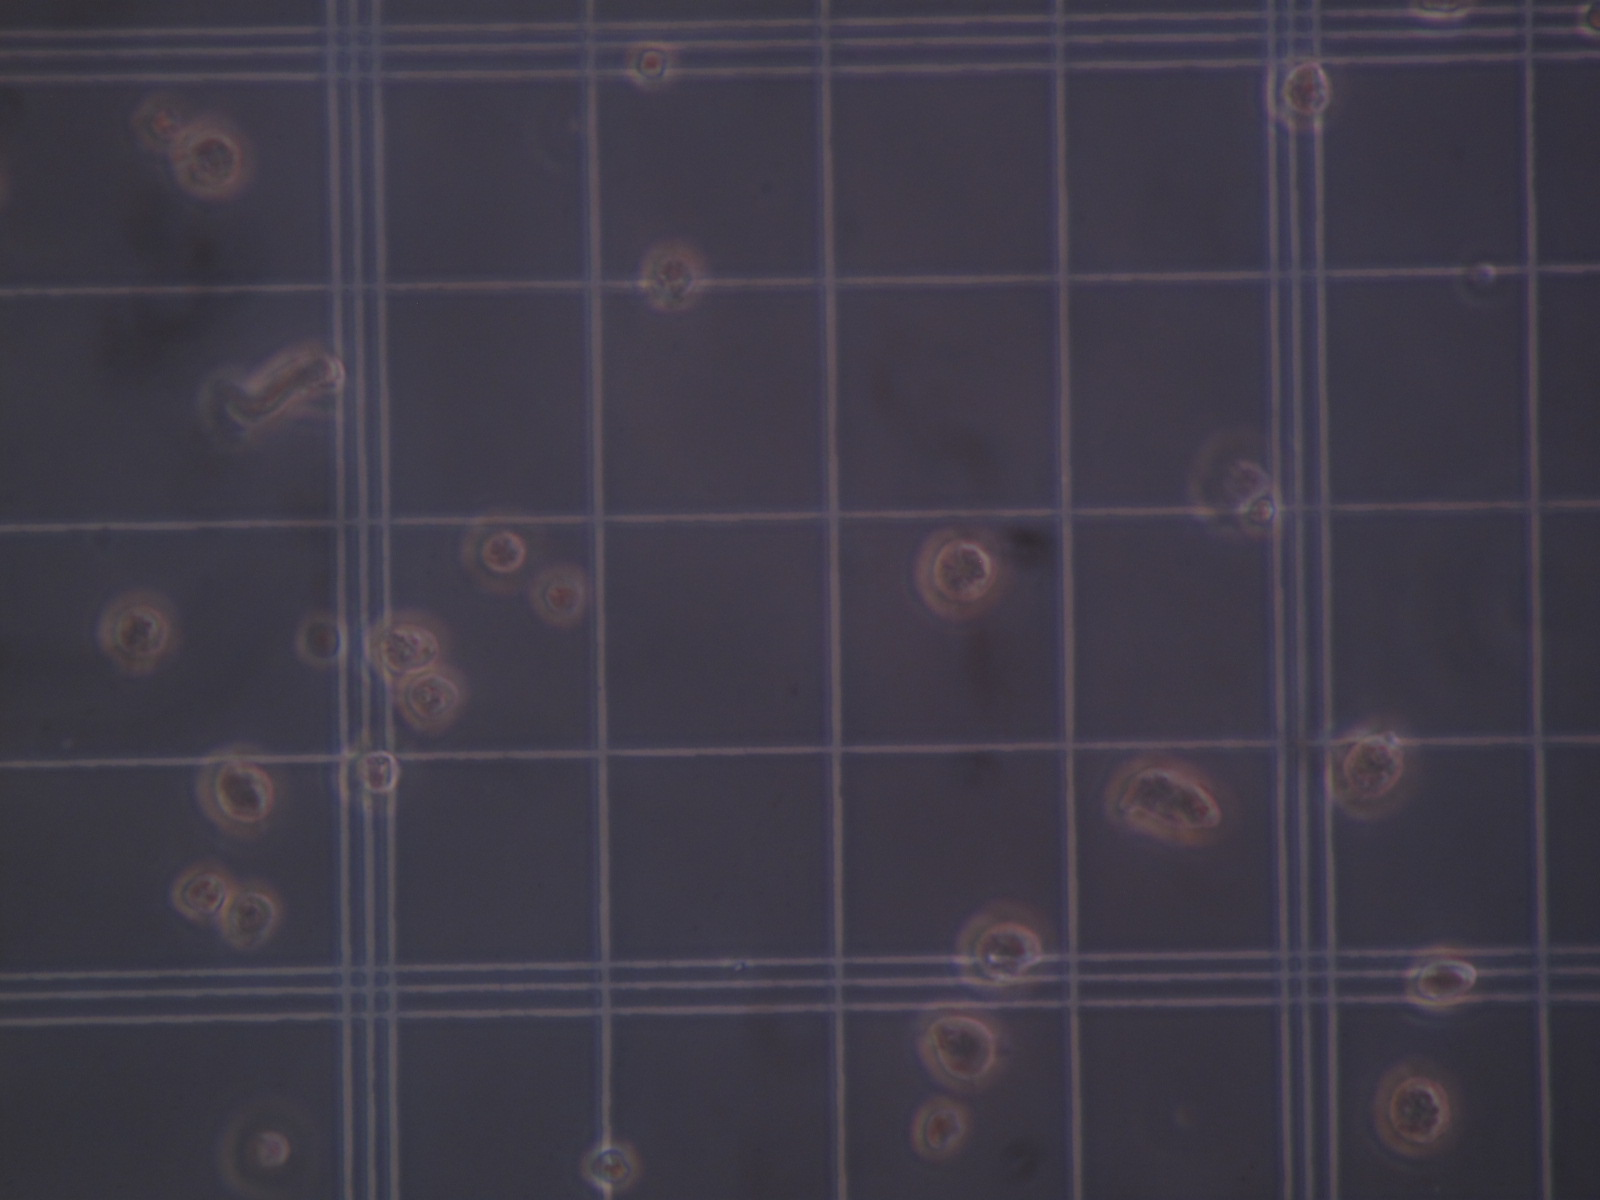hemo: (1106, 756, 1241, 847), (957, 896, 1057, 1000), (1369, 1059, 1464, 1158), (1189, 432, 1272, 541), (912, 524, 1005, 620), (1328, 717, 1411, 821), (918, 1005, 1007, 1092), (197, 747, 281, 832), (220, 1113, 300, 1195), (174, 120, 254, 199), (367, 608, 446, 683), (336, 737, 409, 819), (460, 507, 528, 592), (103, 594, 175, 673), (1409, 942, 1480, 1018), (1265, 55, 1330, 135), (396, 671, 469, 734), (905, 1098, 975, 1161), (641, 245, 704, 313), (530, 563, 588, 625), (170, 867, 232, 923), (227, 886, 282, 947), (581, 1138, 643, 1192), (134, 96, 188, 156), (295, 618, 351, 671), (625, 38, 677, 89), (1240, 490, 1283, 537)
